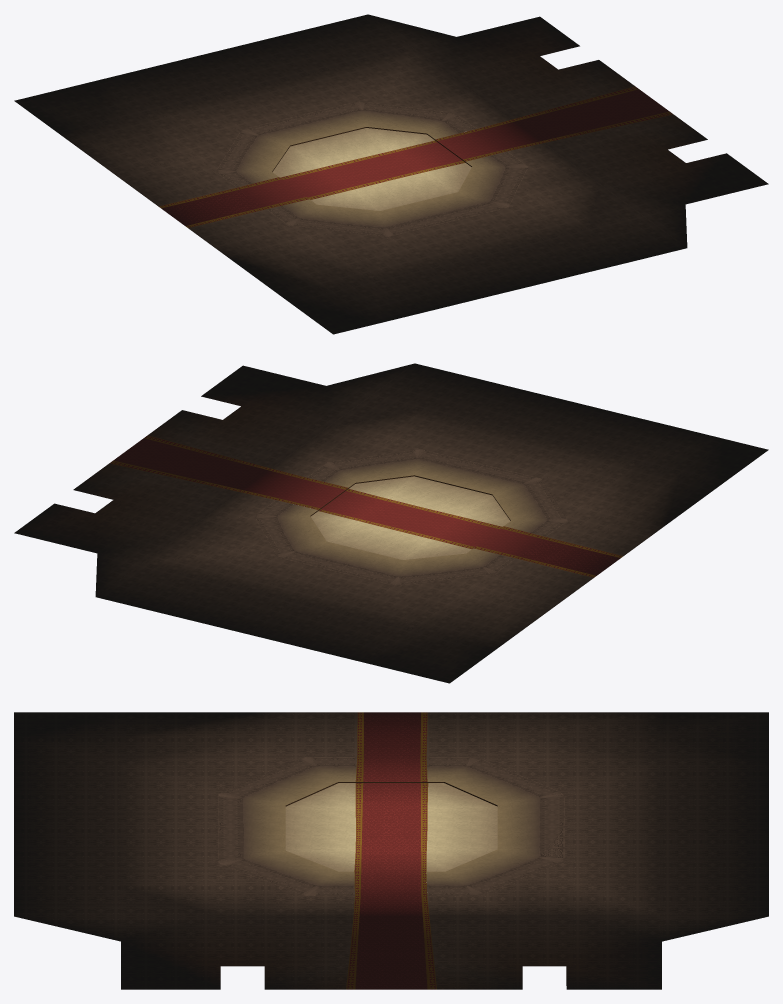
File: floor.glb
The picture shows the model from 3 angles, top to bottom: view 1: azimuth 30°, elevation 25°; view 2: azimuth 150°, elevation 25°; view 3: azimuth 270°, elevation 25°; orthographic projection. The views are drawn at different scales.
Parts seen in each view (by area): view 1: environment.003, environment.001; view 2: environment.003, environment.001; view 3: environment.003, environment.001.
Part boxes in pixels (left/top/right/bottom): environment.003: left=14, top=14, right=768, bottom=334; environment.001: left=215, top=101, right=528, bottom=236; environment.003: left=14, top=363, right=768, bottom=683; environment.001: left=254, top=449, right=567, bottom=585; environment.003: left=14, top=712, right=768, bottom=989; environment.001: left=218, top=757, right=564, bottom=895.
Bounding box in the file's own units: 256 × 0.516 × 295.
7 materials, 6 textured.
